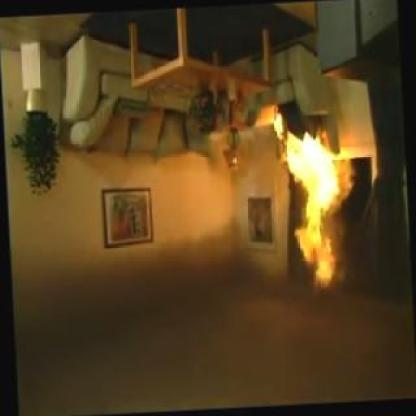Fire: (272, 107, 360, 298)
